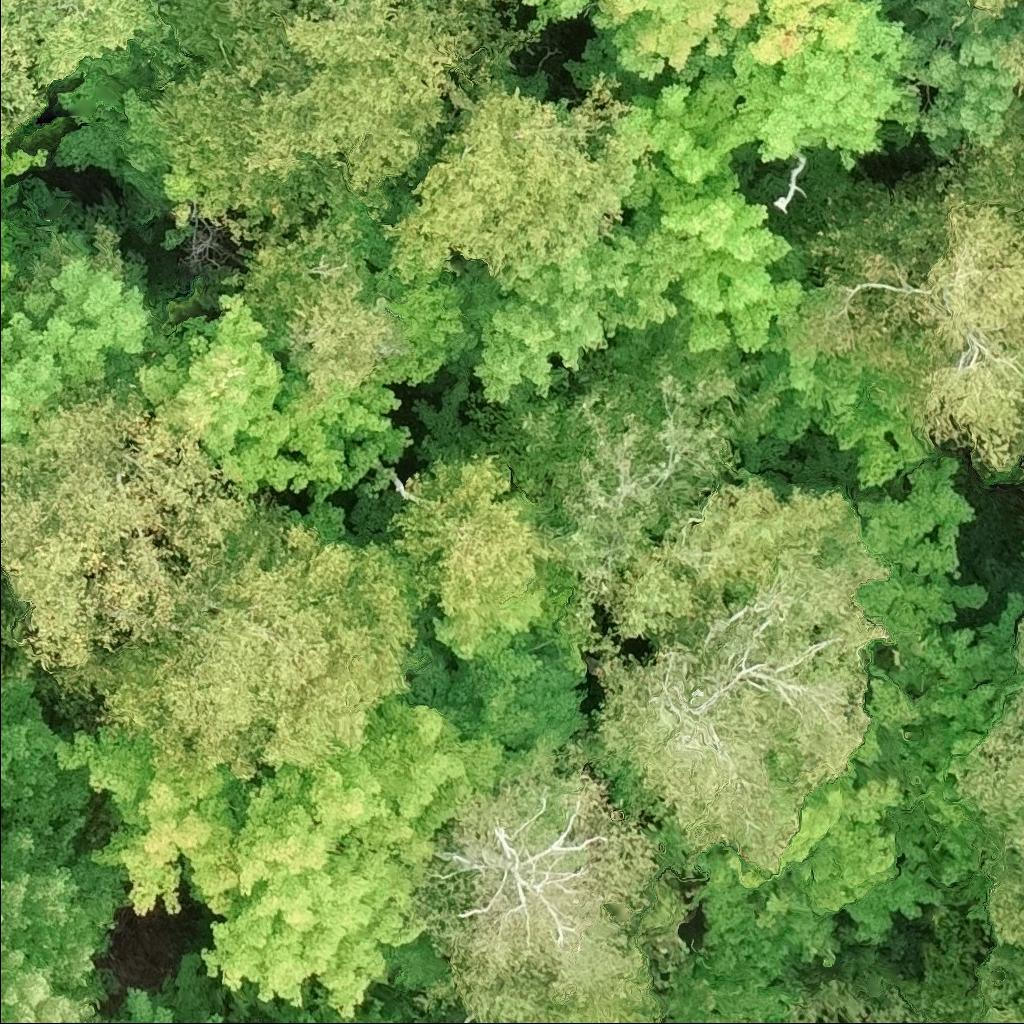crown: (53, 695, 510, 1023), (592, 478, 893, 878), (88, 496, 421, 789), (798, 110, 1023, 475), (0, 381, 250, 702), (412, 739, 683, 1023), (558, 0, 938, 186), (490, 351, 743, 621), (459, 153, 708, 418), (119, 289, 416, 501), (378, 69, 651, 288), (0, 171, 163, 438), (221, 205, 415, 410), (717, 759, 907, 967), (656, 172, 832, 388), (387, 453, 560, 650), (729, 346, 941, 490), (152, 61, 341, 222), (0, 784, 126, 1023), (53, 36, 204, 222), (277, 0, 537, 106), (282, 64, 456, 222), (849, 456, 995, 643), (411, 627, 586, 781), (888, 591, 1023, 766), (516, 0, 761, 83), (900, 0, 1023, 160), (0, 680, 97, 836), (157, 0, 319, 88), (366, 268, 479, 391), (32, 0, 175, 86), (952, 696, 1023, 857), (963, 851, 1023, 1023), (0, 148, 50, 322), (781, 978, 948, 1023), (0, 0, 47, 153), (119, 957, 227, 1023), (157, 162, 210, 225), (289, 1008, 358, 1023), (967, 0, 1023, 15), (382, 1015, 429, 1023), (1018, 631, 1023, 666), (711, 1017, 731, 1023), (753, 1020, 760, 1023)
